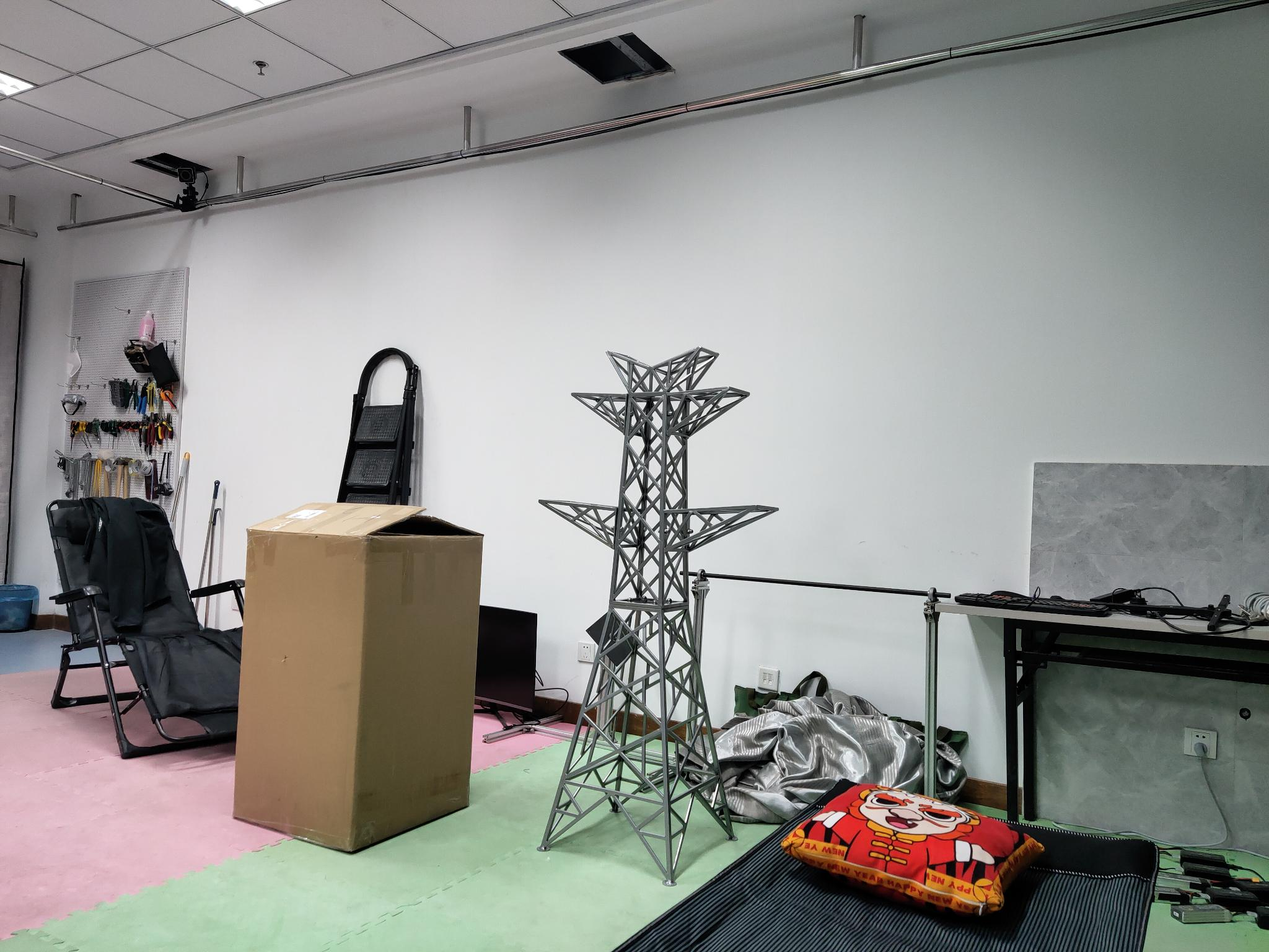tower: (539, 351, 761, 882)
